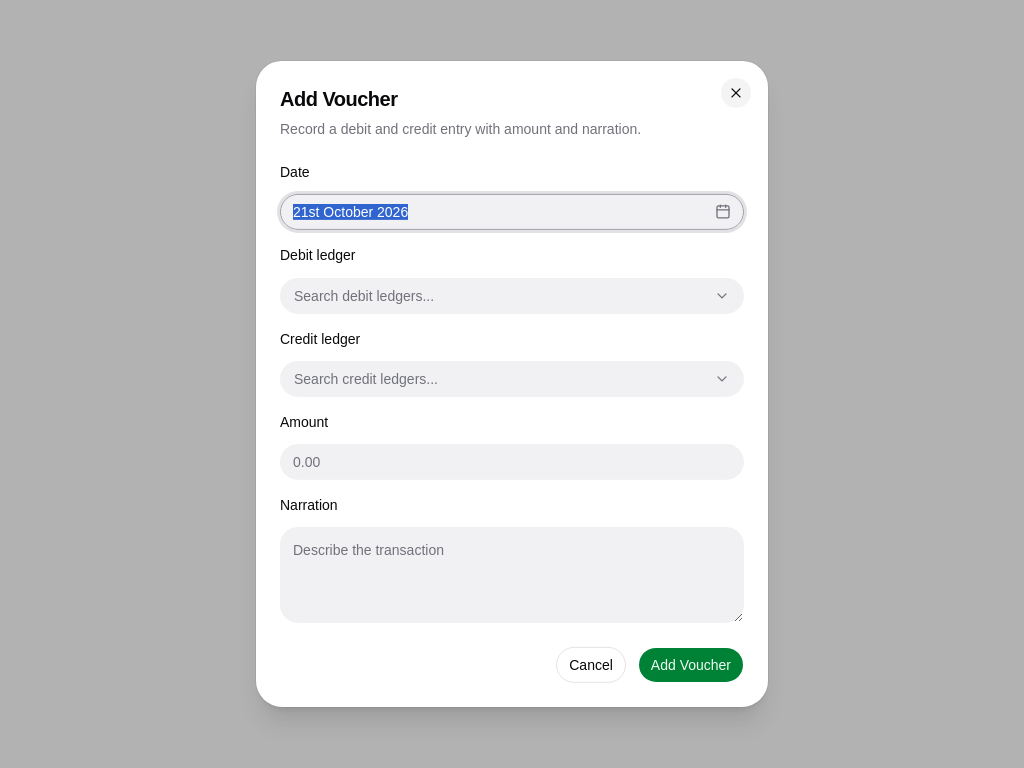
AddVoucherDialog › resets the form when cancelled
The width and height of the screenshot is (1024, 768).
Type "999" into the number field labelled "Amount" at (512, 462), box x1=280 y1=444 x2=744 y2=480
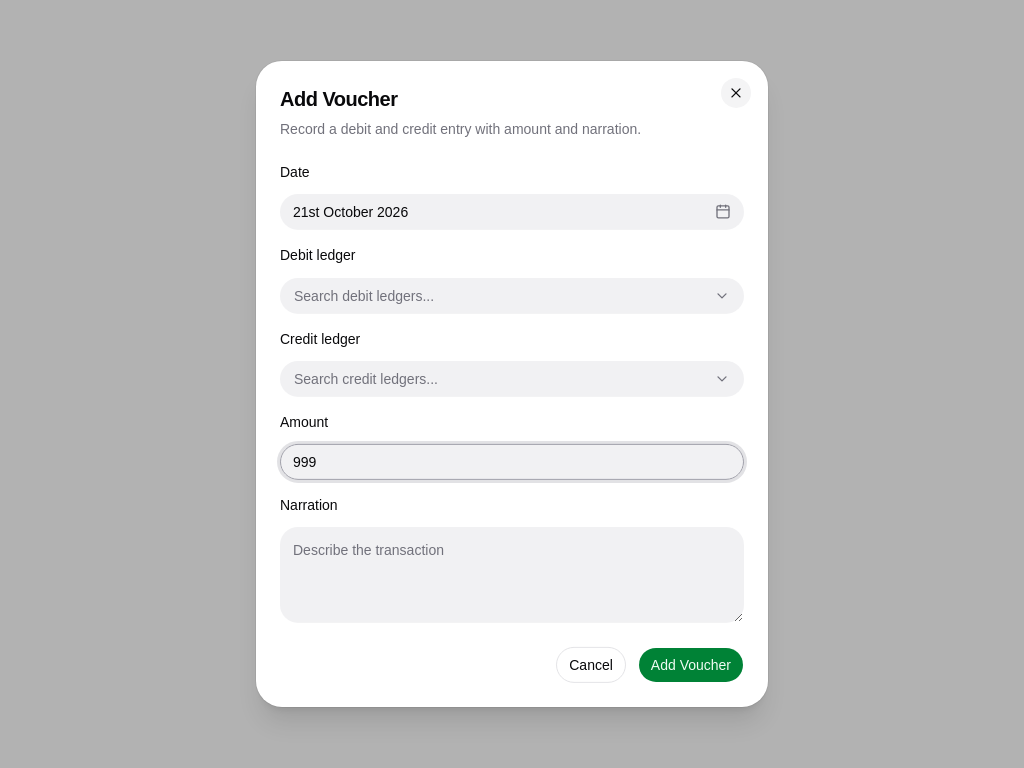
Click the button "Cancel" at (591, 665), box x1=556 y1=647 x2=626 y2=683
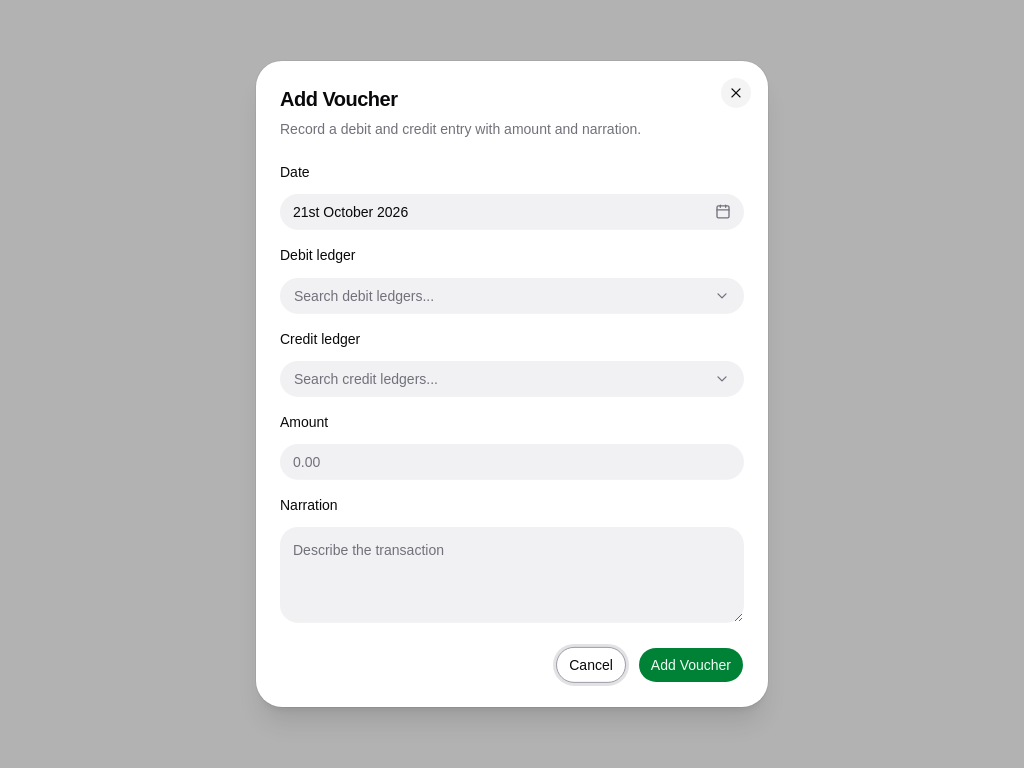
Now the number field labelled "Amount" does not hold "999", box x1=280 y1=444 x2=744 y2=480
Click the button "Add Voucher" at (691, 665), box x1=638 y1=647 x2=744 y2=683
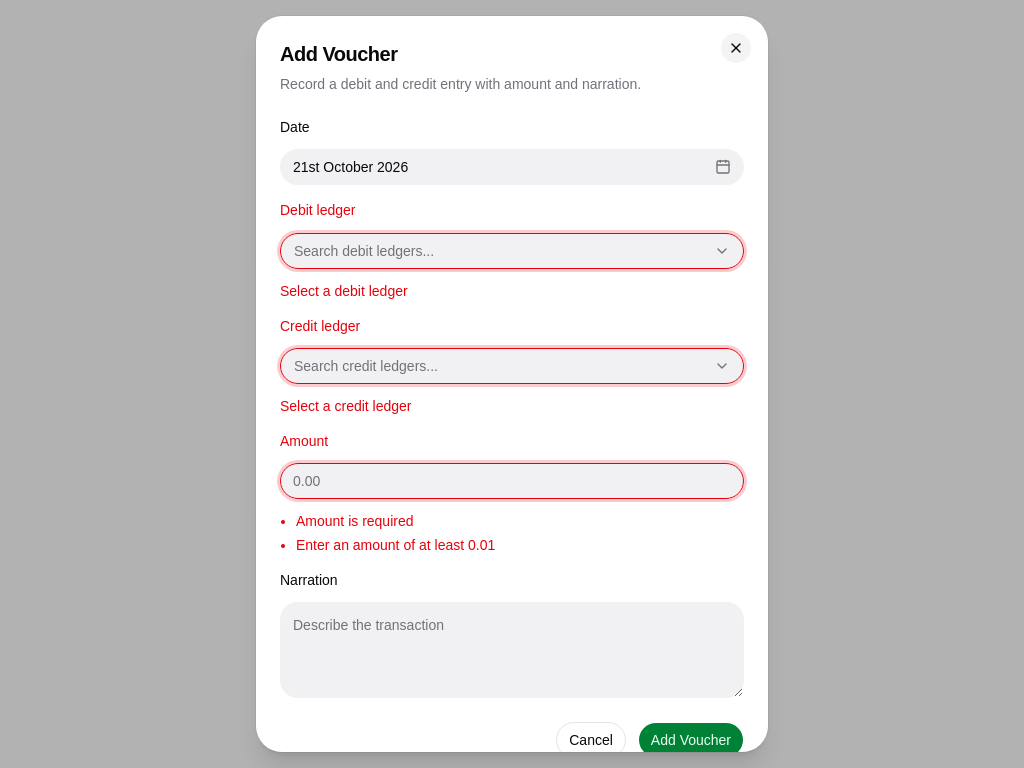
Now the list item "Amount is required" is shown, box x1=296 y1=513 x2=414 y2=529
